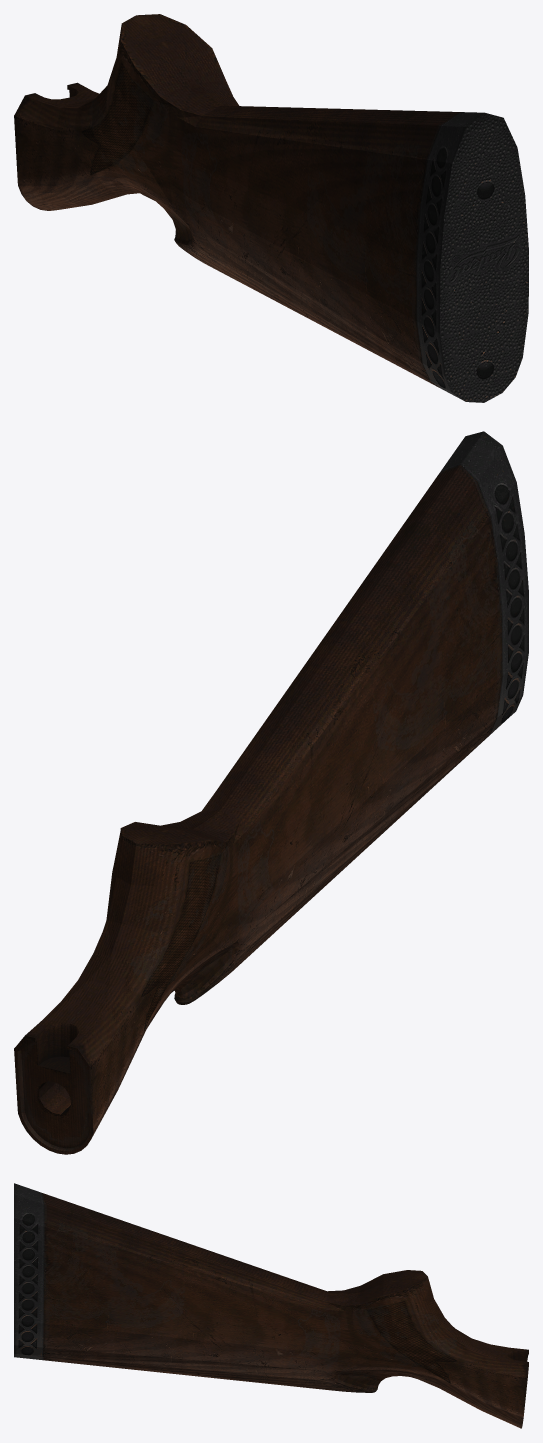
The picture shows the model from 3 angles, top to bottom: view 1: azimuth 30°, elevation 25°; view 2: azimuth 150°, elevation 25°; view 3: azimuth 270°, elevation 25°; orthographic projection. The views are drawn at different scales.
Parts seen in each view (by area): view 1: TW_56083cba4bdc2de22e8b456f_PZ_Import; view 2: TW_56083cba4bdc2de22e8b456f_PZ_Import; view 3: TW_56083cba4bdc2de22e8b456f_PZ_Import.
Boxes of the visible parts, box(x1,y1,x2,y2) form: TW_56083cba4bdc2de22e8b456f_PZ_Import: box(14, 14, 528, 402); TW_56083cba4bdc2de22e8b456f_PZ_Import: box(14, 431, 528, 1154); TW_56083cba4bdc2de22e8b456f_PZ_Import: box(14, 1183, 528, 1428).
Bounding box in the file's own units: 0.0225 × 0.1897 × 0.0989.
1 material, 1 textured.
